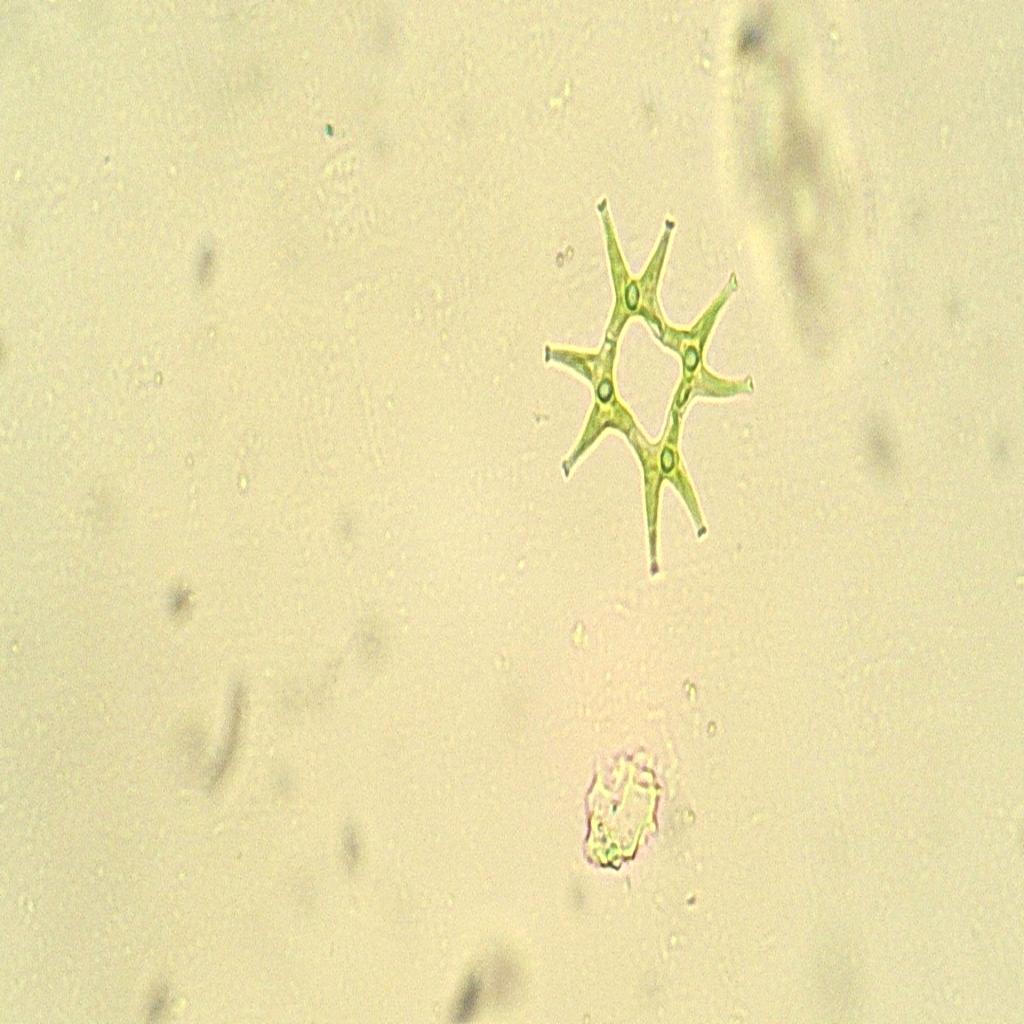Pediastrum_10: (516, 191, 783, 598)
